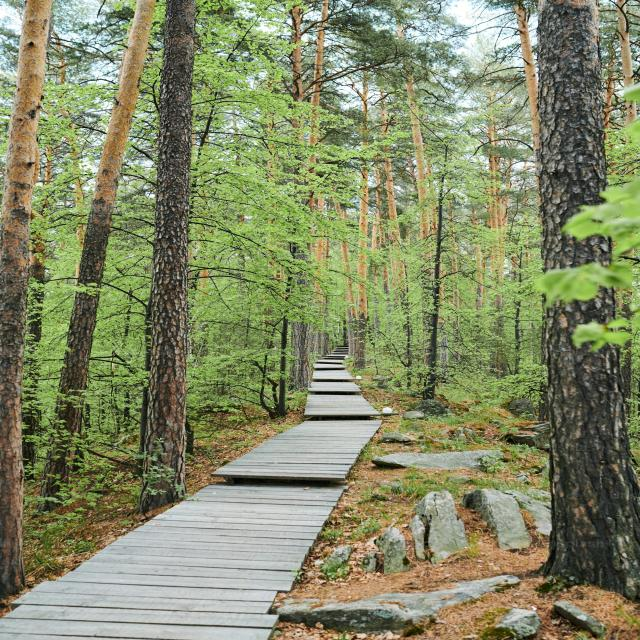trunk: (525, 569, 640, 612), (129, 500, 191, 516), (32, 510, 76, 520), (262, 414, 292, 422), (11, 478, 38, 486), (287, 386, 313, 394), (420, 398, 437, 403), (352, 367, 367, 372), (183, 453, 196, 458), (406, 388, 414, 391)
